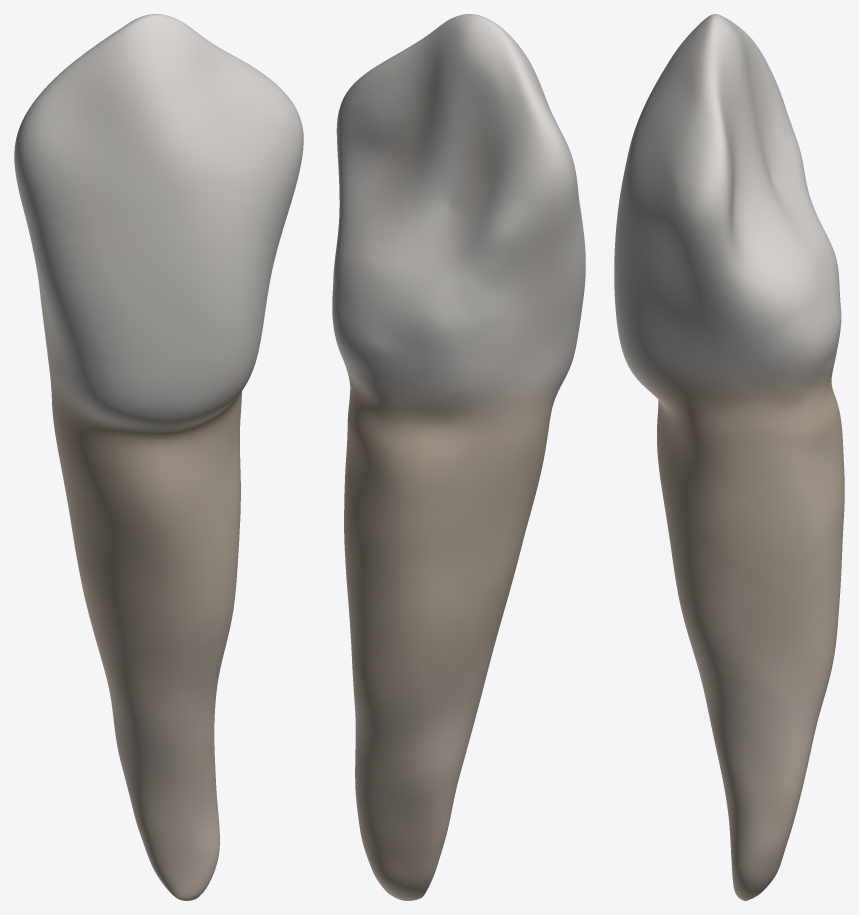
Rendered from primary_lower_left_canine_fdi_73.glb.
The picture shows the model from 3 angles, left to right: view 1: azimuth 30°, elevation 25°; view 2: azimuth 150°, elevation 25°; view 3: azimuth 270°, elevation 25°; orthographic projection. The views are drawn at different scales.
Visible parts, largest first — view 1: Object_3; view 2: Object_3; view 3: Object_3.
Boxes of the visible parts, x1,y1,x2,y2 form: Object_3: [14, 14, 303, 900]; Object_3: [332, 14, 585, 900]; Object_3: [614, 14, 844, 900].
Size of the model in its own units: 2.13 by 7.19 by 1.76.
